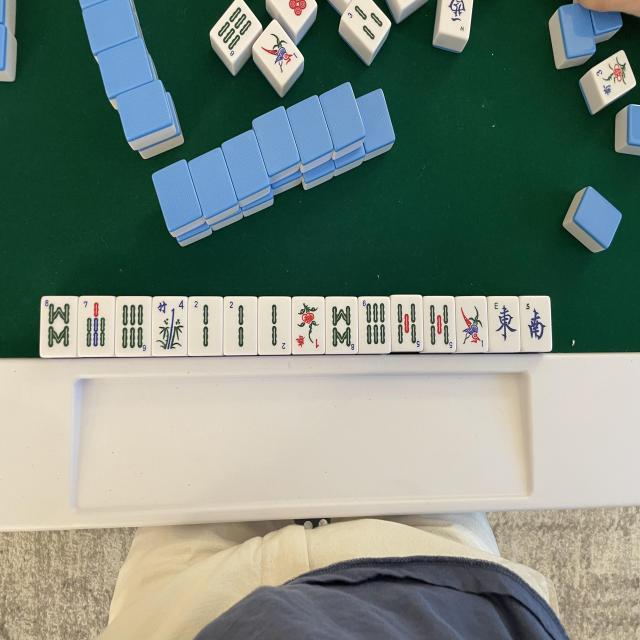bf3: (594, 52, 636, 99)
bf4: (156, 298, 186, 354)
bs1: (294, 299, 322, 352)
hwe: (491, 300, 517, 350)
hws: (522, 300, 548, 350)
sb1: (460, 298, 484, 350)
sb2: (192, 298, 219, 354), (226, 299, 253, 351), (262, 300, 286, 350)
sb5: (426, 297, 454, 350), (393, 298, 421, 347)
sb6: (118, 298, 150, 354), (361, 299, 386, 349)
sb7: (80, 297, 112, 353)
sb8: (43, 298, 72, 351), (328, 300, 355, 351)
